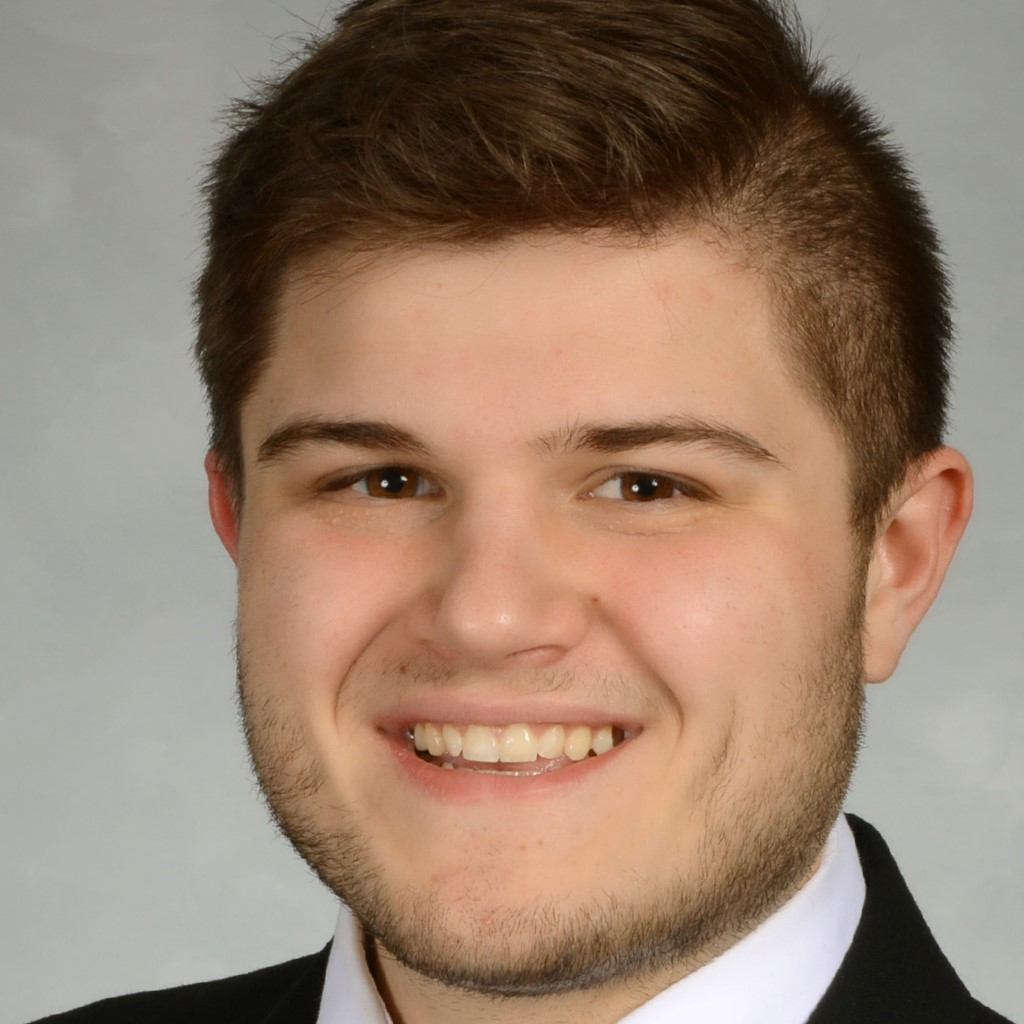sin_mascara: (231, 156, 876, 949)
